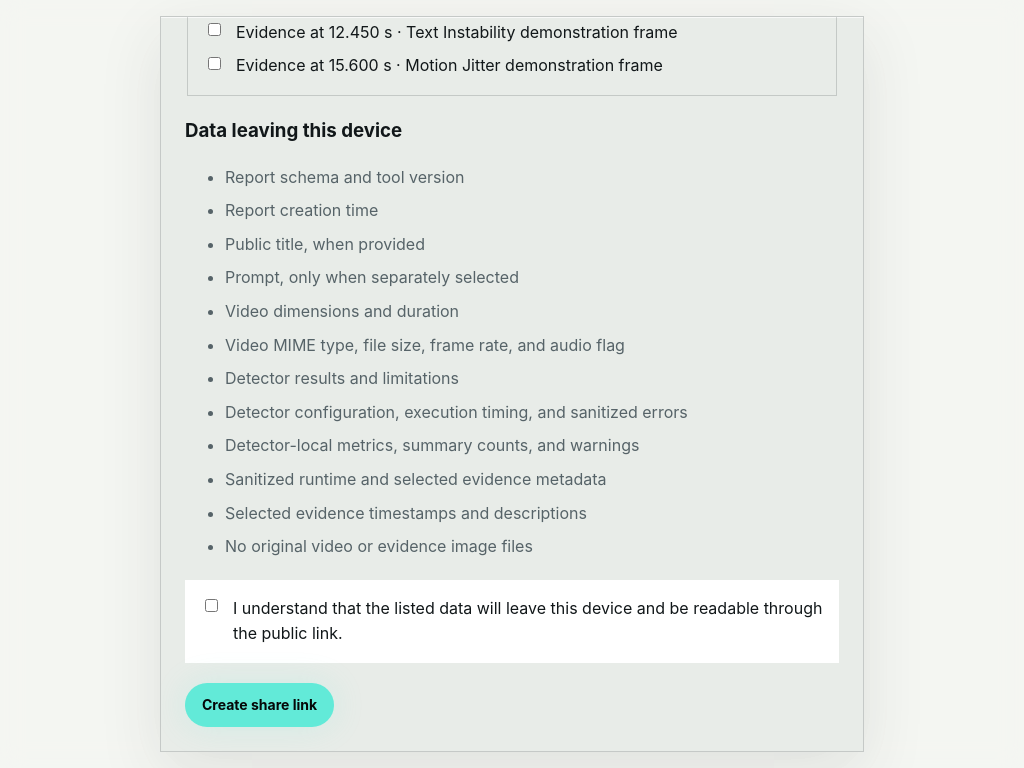
it: ShareDialog › keeps a newly created link actionable when the local index cannot persist
(page scrolled)
Click the checkbox labelled "I understand that the listed data will leave this device" at (212, 605), box left=205, top=599, right=218, bottom=612
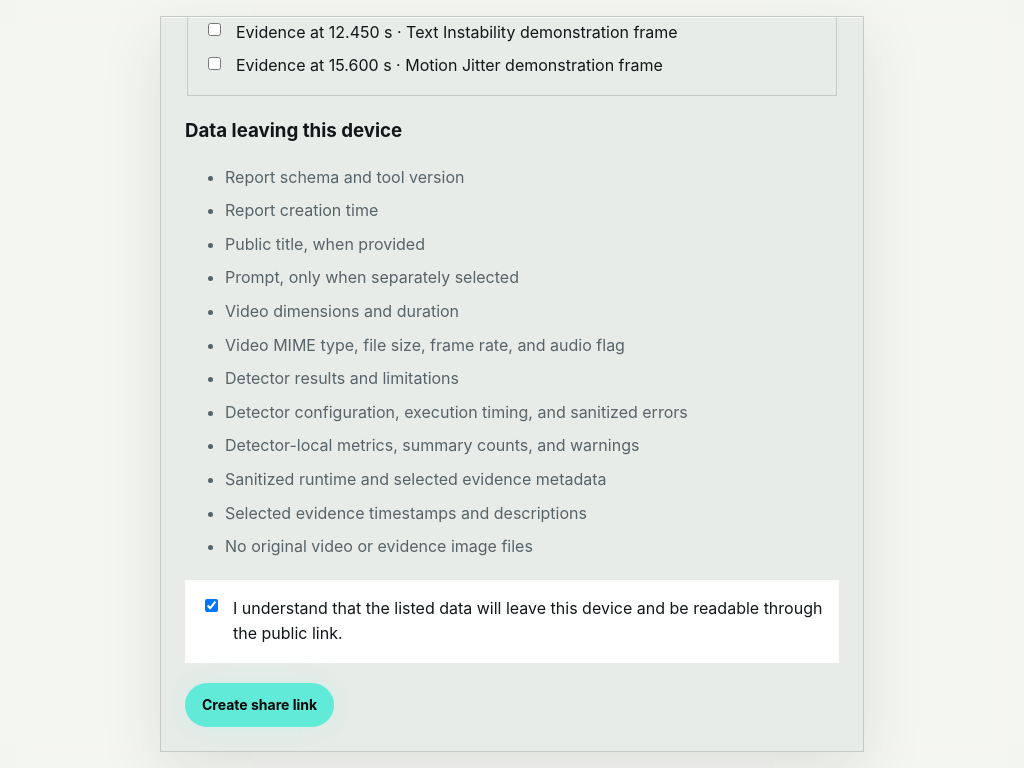
Click the button "Create share link" at (260, 705), box left=185, top=683, right=334, bottom=727
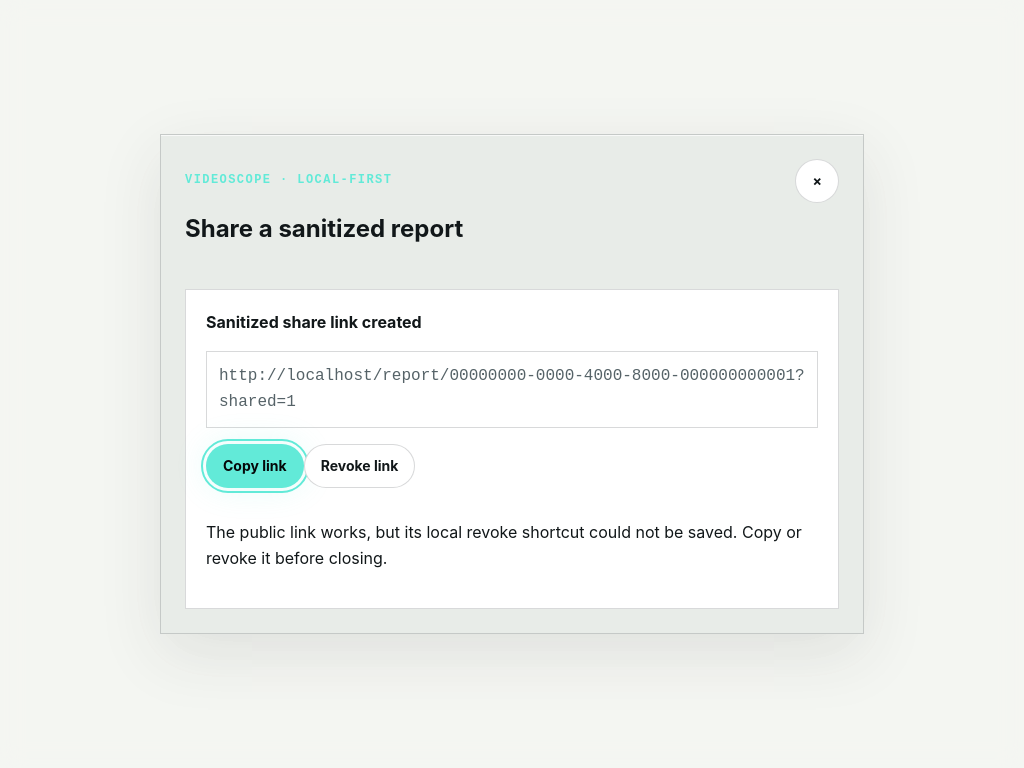
Now the button "Copy link" is shown, box left=206, top=444, right=304, bottom=488
Now the text "local revoke shortcut could not be saved" is shown, box left=206, top=522, right=802, bottom=568
